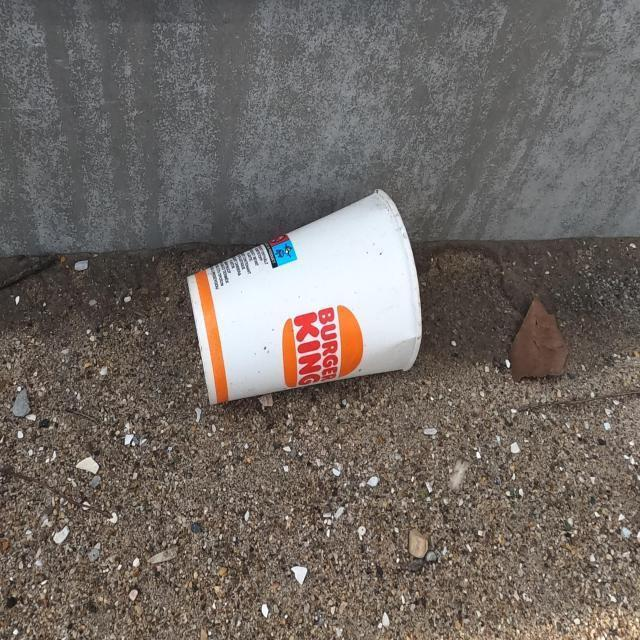Cup: (180, 182, 423, 404)
